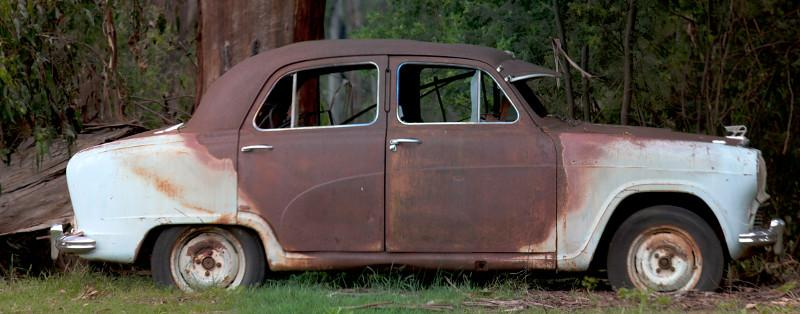car: (49, 38, 786, 297)
